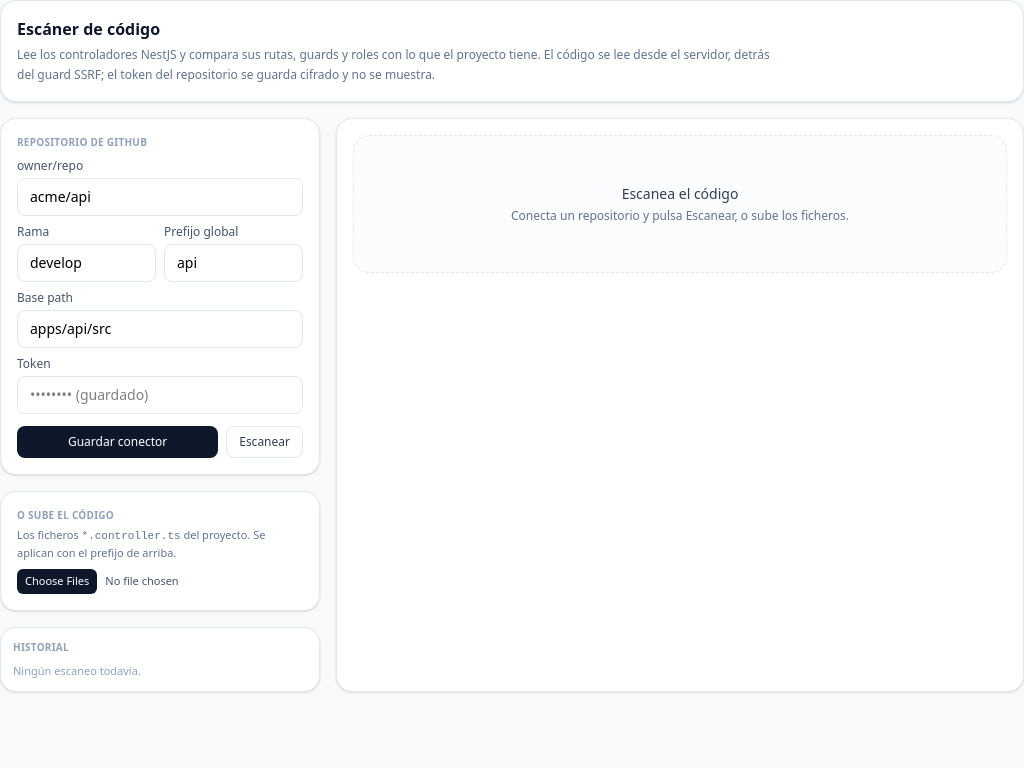
Test: el escáner de código › si escanear falla, el error se enseña
Expected: the field labelled "owner/repo" holds "acme/api", [17,178,303,216]
Click the button "Escanear". click: (265, 442)
box: [226,426,303,458]
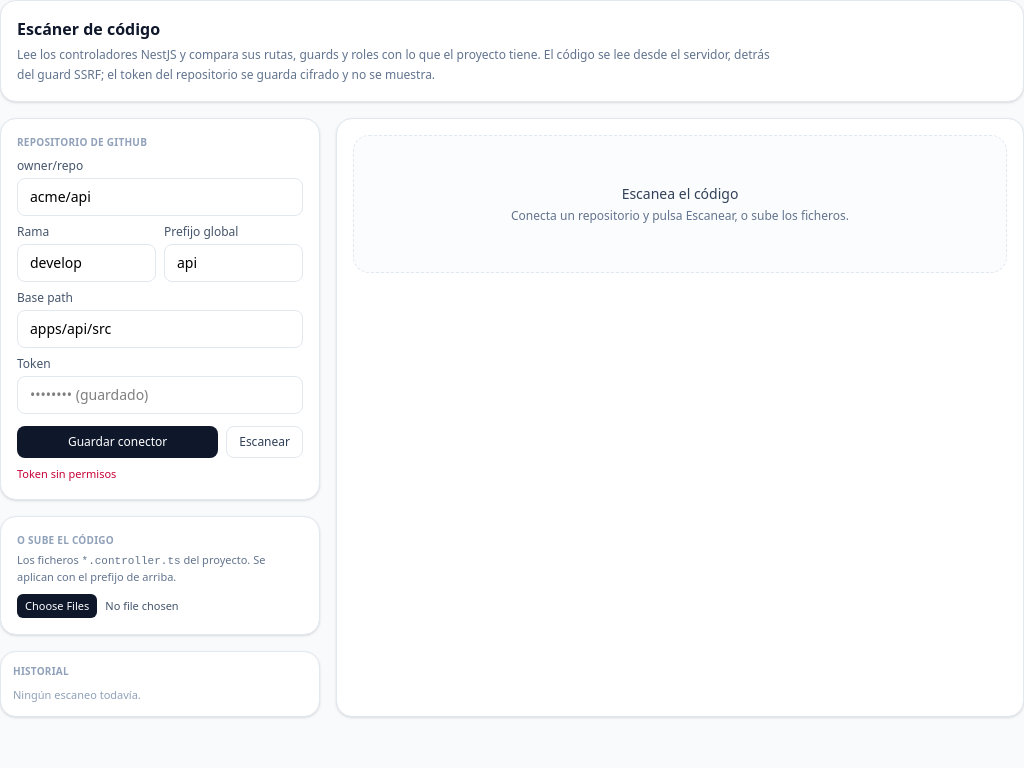
Expected: the text "Token sin permisos" is shown, [17,466,116,481]
